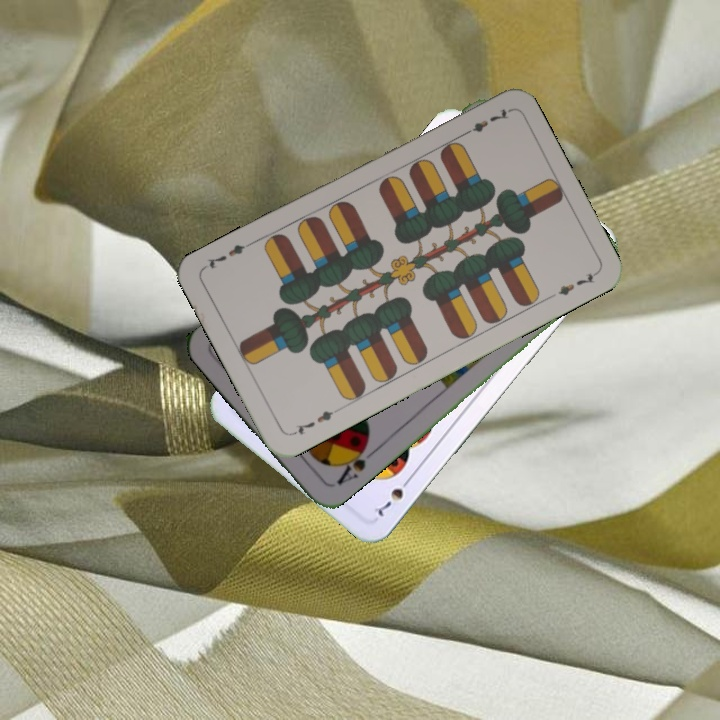E7: (287, 404, 342, 439), (457, 104, 512, 139)
S7: (370, 472, 415, 520)
SA: (332, 438, 378, 488)
